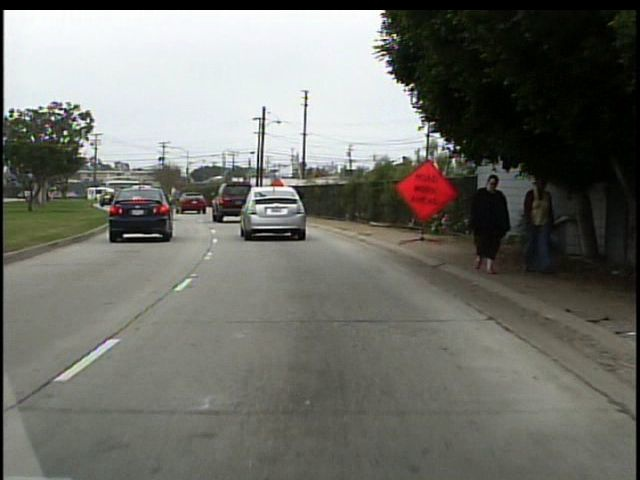person: (459, 170, 512, 280), (516, 166, 563, 283)
